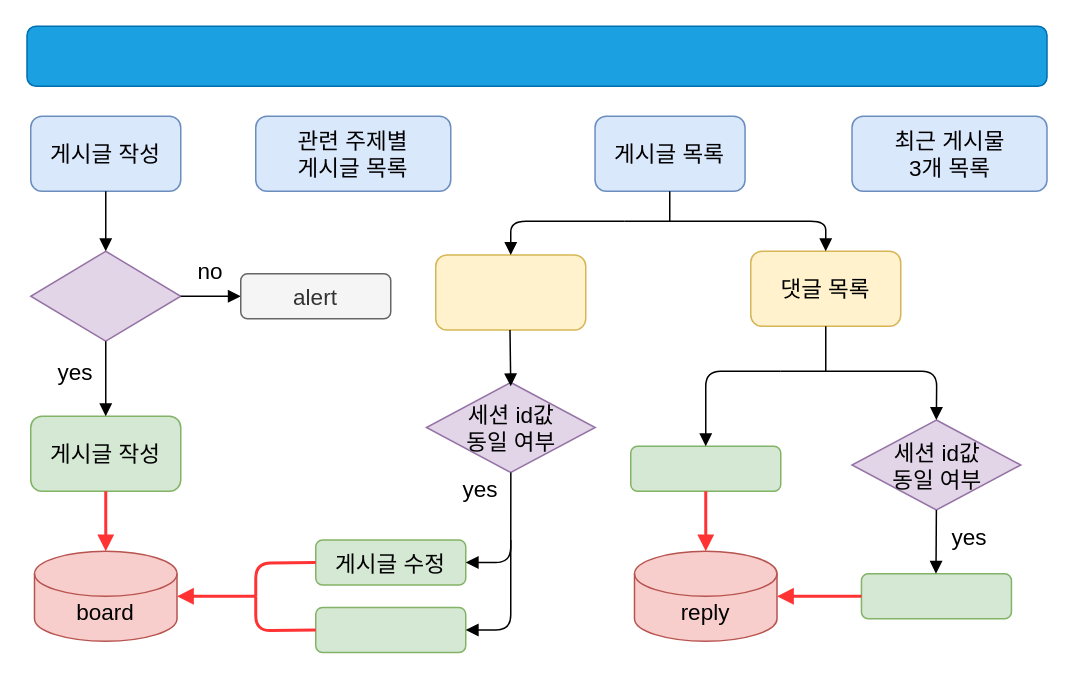
Some shapes in this 1073 by 680 pixel diagram are drawn without their labels. Each missing label, with the box of its shape:
board.jsp: (26, 25, 1047, 86)
게시글 삭제: (314, 606, 466, 652)
게시글 상세 페이지: (434, 254, 586, 330)
댓글 삭제: (860, 572, 1011, 619)
댓글 작성: (629, 445, 781, 491)
로그인 여부: (29, 250, 181, 341)
